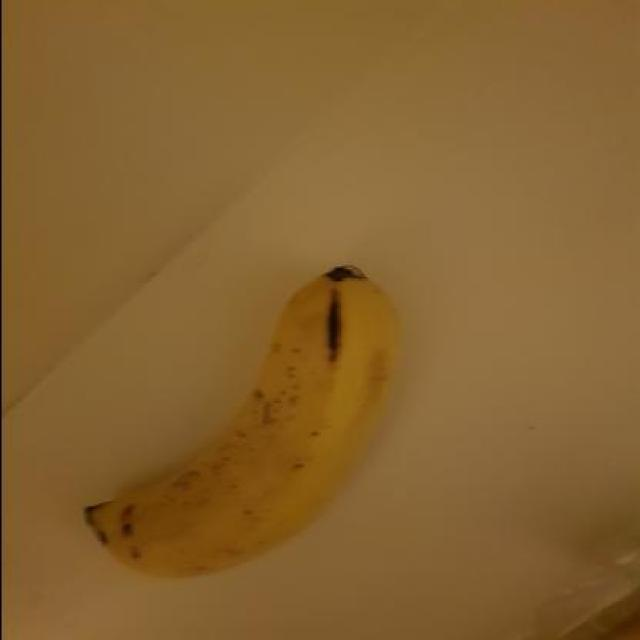banana: (72, 260, 412, 586)
